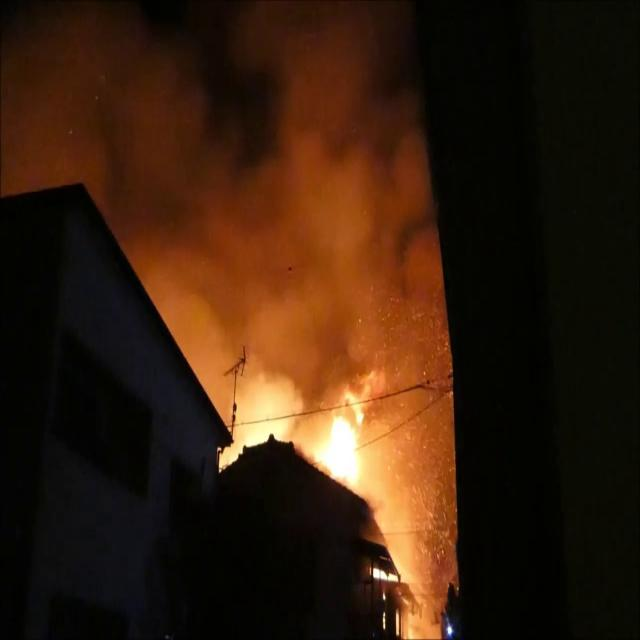Fire: (310, 384, 376, 506), (310, 382, 376, 504)
Smoke: (23, 12, 482, 400)
